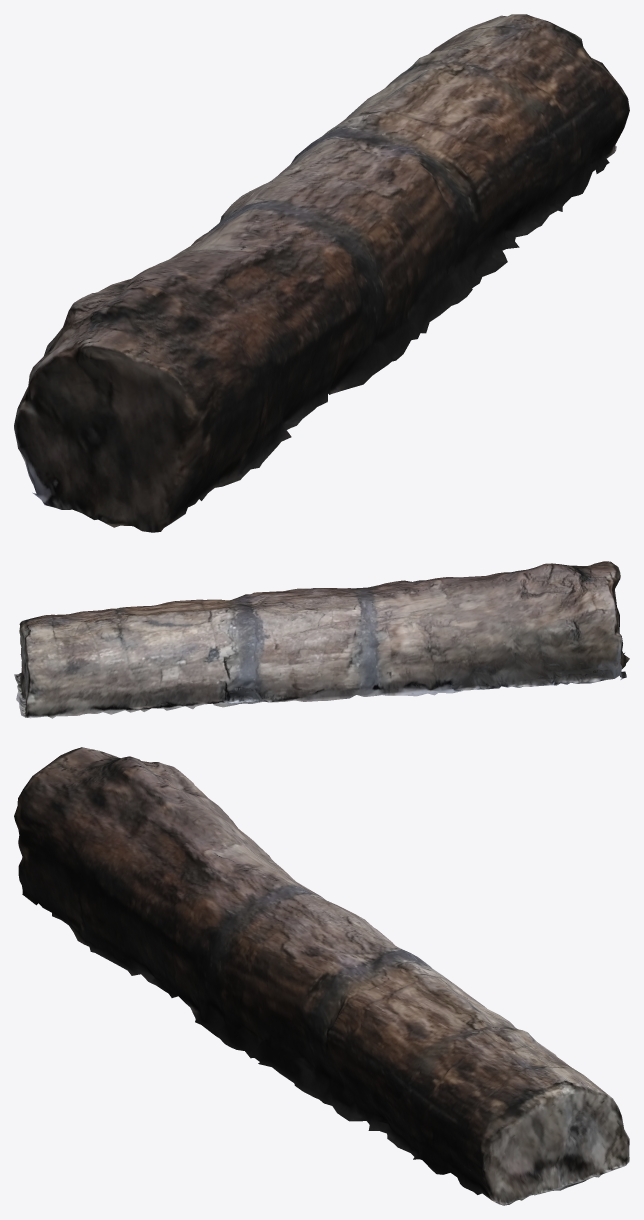
Rendered from stoneforest1.fbx.
3 renders of one model, top to bottom at view 1: azimuth 30°, elevation 25°; view 2: azimuth 150°, elevation 25°; view 3: azimuth 270°, elevation 25°, orthographic. The views are drawn at different scales.
Parts seen in each view (by area): view 1: 3DModel_LowPoly; view 2: 3DModel_LowPoly; view 3: 3DModel_LowPoly.
Part boxes in pixels (left/top/right/bottom): 3DModel_LowPoly: left=14, top=14, right=629, bottom=532; 3DModel_LowPoly: left=14, top=561, right=629, bottom=718; 3DModel_LowPoly: left=14, top=747, right=629, bottom=1205.
Size of the model in its own units: 482 by 112 by 381.
1 material, 1 textured.
